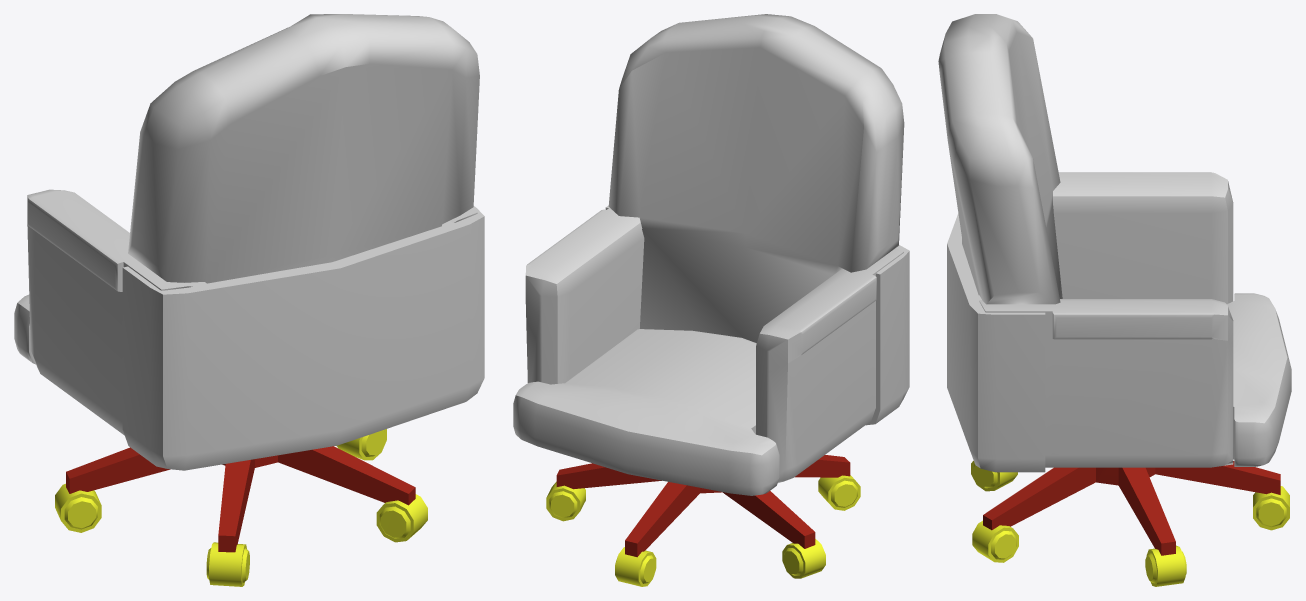
Rendered from SM_Office_Chair_01.fbx.
3 renders of one model, left to right at view 1: azimuth 30°, elevation 25°; view 2: azimuth 150°, elevation 25°; view 3: azimuth 270°, elevation 25°, orthographic. The views are drawn at different scales.
Parts seen in each view (by area): view 1: office chair; view 2: office chair; view 3: office chair.
Part boxes in pixels (box(x1,y1,x2,y2)): office chair: box(14, 14, 484, 586); office chair: box(513, 14, 909, 586); office chair: box(938, 14, 1291, 586).
Size of the model in its own units: 105 by 167 by 110.
